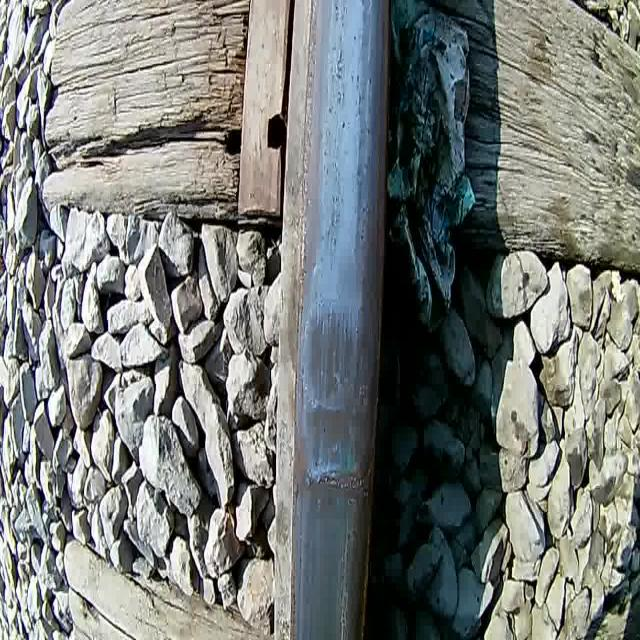Cracks: (293, 461, 382, 507)
Squats: (302, 296, 364, 408), (299, 396, 378, 474)
